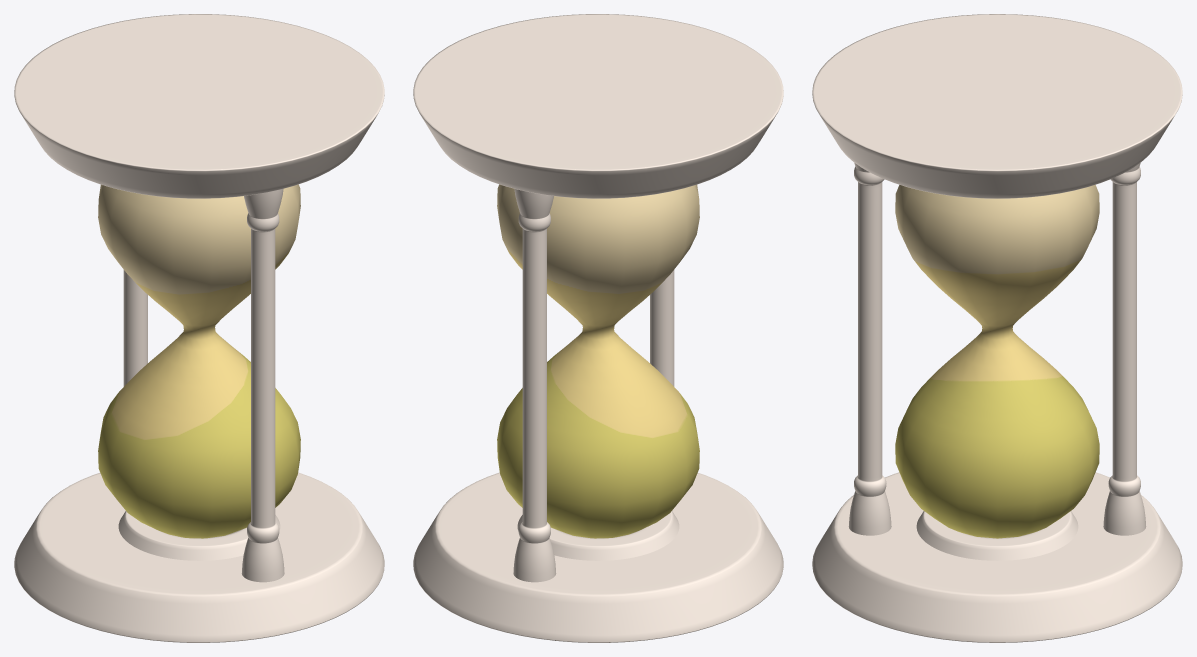
Rendered from hourglass.glb.
The picture shows the model from 3 angles, left to right: view 1: azimuth 30°, elevation 25°; view 2: azimuth 150°, elevation 25°; view 3: azimuth 270°, elevation 25°; orthographic projection.
Parts seen in each view (by area): view 1: Object_4, Object_2, Object_5; view 2: Object_4, Object_2, Object_5; view 3: Object_4, Object_2, Object_5.
Boxes of the visible parts, x1=… form: Object_4: x1=14, y1=14, x2=384, y2=642; Object_2: x1=98, y1=184, x2=300, y2=538; Object_5: x1=123, y1=189, x2=284, y2=582; Object_4: x1=413, y1=14, x2=783, y2=642; Object_2: x1=497, y1=184, x2=699, y2=538; Object_5: x1=513, y1=189, x2=674, y2=582; Object_4: x1=812, y1=14, x2=1182, y2=642; Object_2: x1=895, y1=185, x2=1099, y2=538; Object_5: x1=848, y1=163, x2=1146, y2=535.
Size of the model in its own units: 50.02 by 70.36 by 50.02.
Materials: 3 (1 with a texture image).
